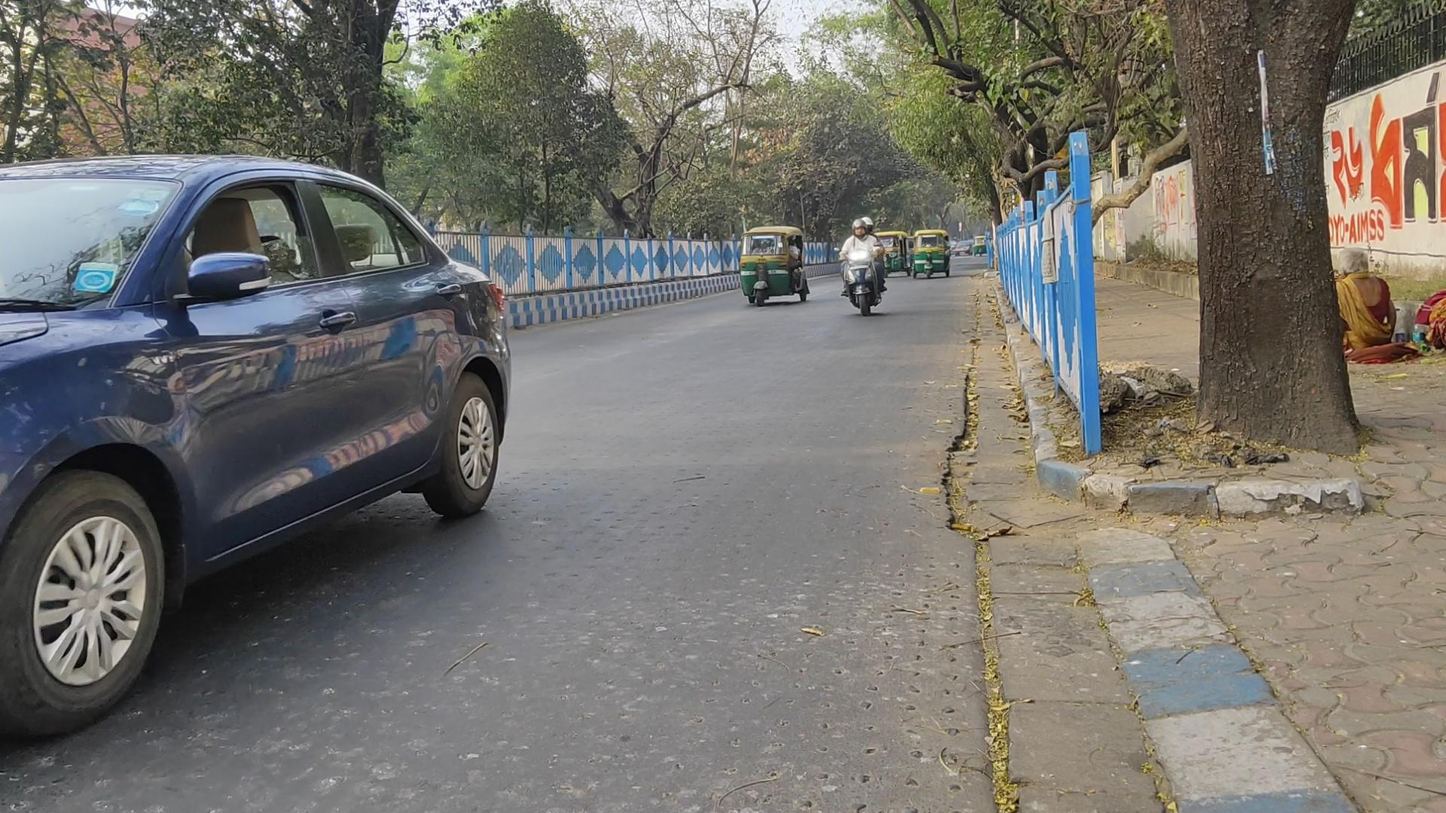Auto: (737, 221, 813, 310), (908, 225, 953, 283), (874, 230, 910, 280), (971, 236, 988, 257)
bike: (838, 213, 884, 321)
car: (5, 151, 513, 733), (954, 239, 972, 257)
